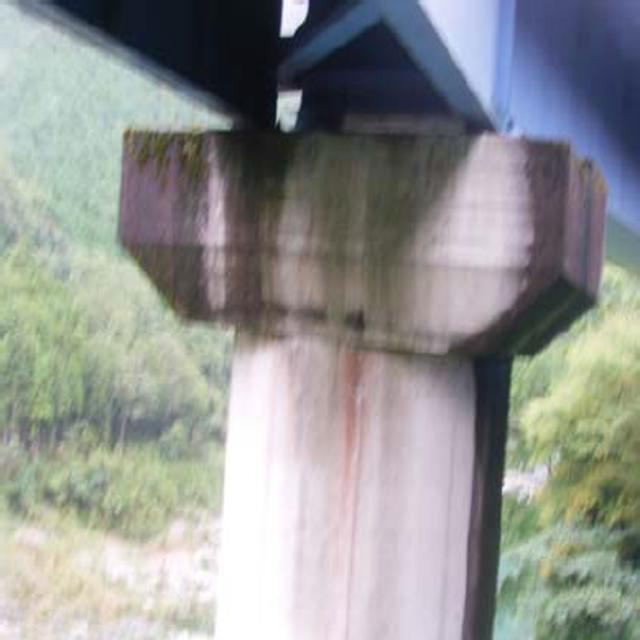leakage: (484, 120, 610, 640), (126, 129, 291, 330)
